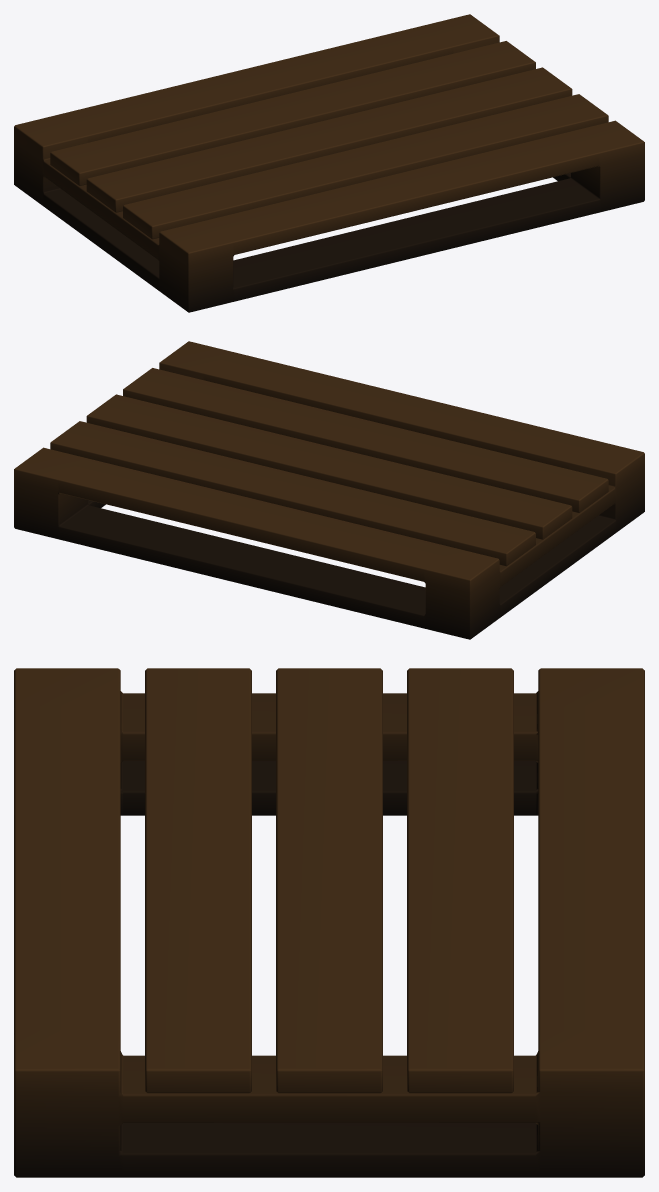
File: SM_Props_Palette_01.fbx
The picture shows the model from 3 angles, top to bottom: view 1: azimuth 30°, elevation 25°; view 2: azimuth 150°, elevation 25°; view 3: azimuth 270°, elevation 25°; orthographic projection. The views are drawn at different scales.
Parts seen in each view (by area): view 1: transform15; view 2: transform15; view 3: transform15.
Part boxes in pixels (left/top/right/bottom): transform15: left=14, top=14, right=644, bottom=312; transform15: left=14, top=341, right=644, bottom=639; transform15: left=14, top=668, right=644, bottom=1177.
Size of the model in its own units: 116 by 14.7 by 77.04.
